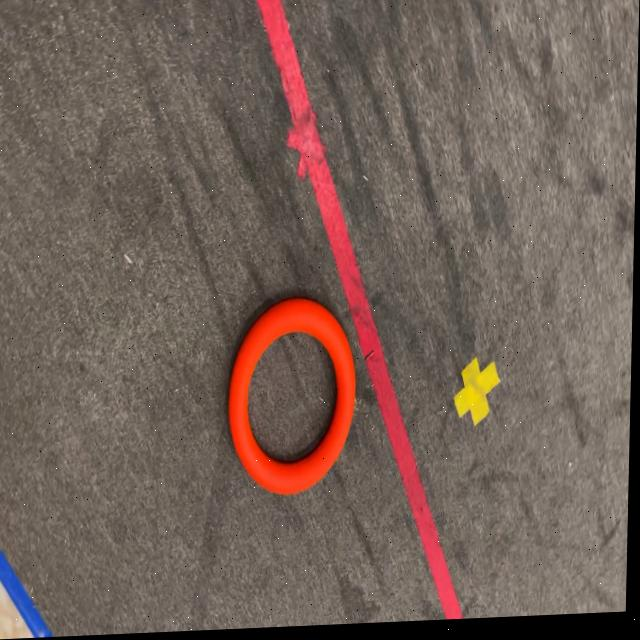note: (229, 299, 359, 499)
